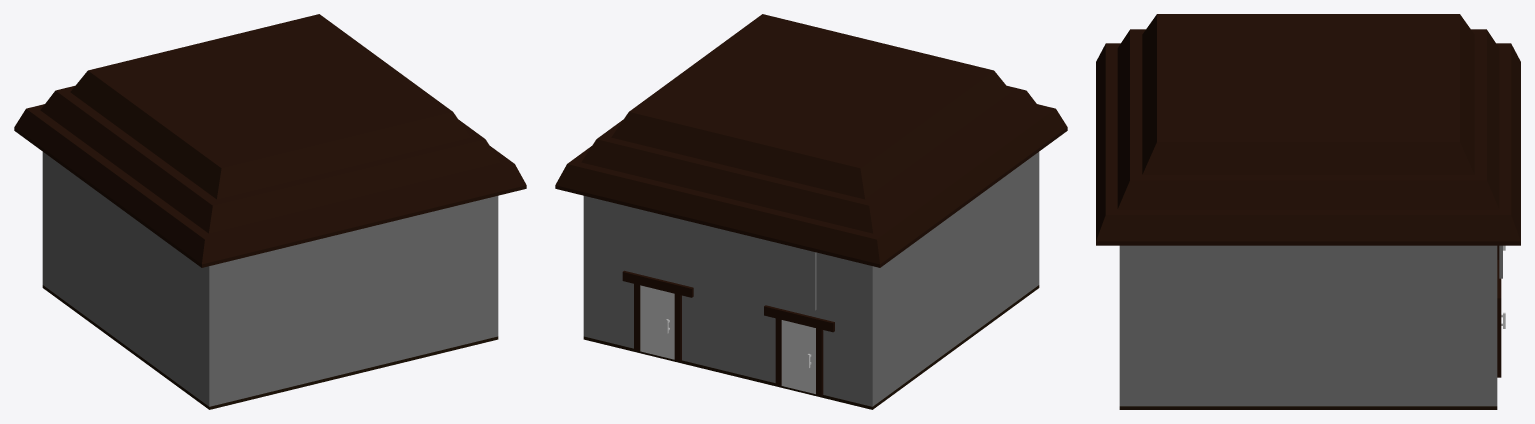
Rendered from Tavern_Standin.fbx.
3 views of the same model, side by side, from view 1: azimuth 30°, elevation 25°; view 2: azimuth 150°, elevation 25°; view 3: azimuth 270°, elevation 25° (orthographic). The views are drawn at different scales.
Parts seen in each view (by area): view 1: OuterViewables; view 2: OuterViewables, Side1Door2, Side1Door1; view 3: OuterViewables.
Part boxes in pixels (x1,y1,x2,y2): OuterViewables: (14,14,526,409); OuterViewables: (555,14,1067,409); Side1Door2: (640,285,674,359); Side1Door1: (781,320,815,394); OuterViewables: (1096,14,1520,409).
Size of the model in its own units: 11.24 by 7.36 by 11.24.
